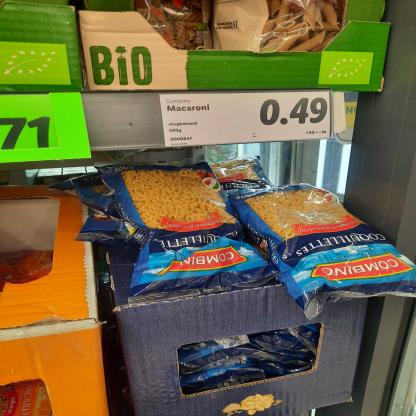prtg: (160, 92, 331, 148)
